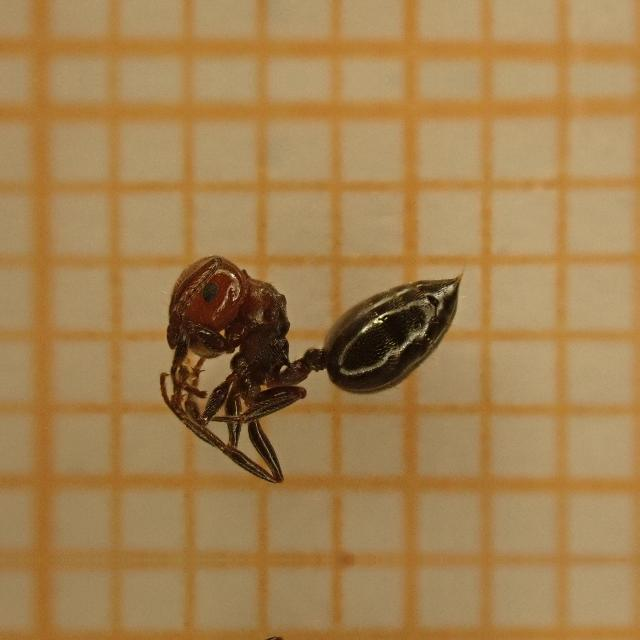Crematogaster: (142, 252, 482, 458)
